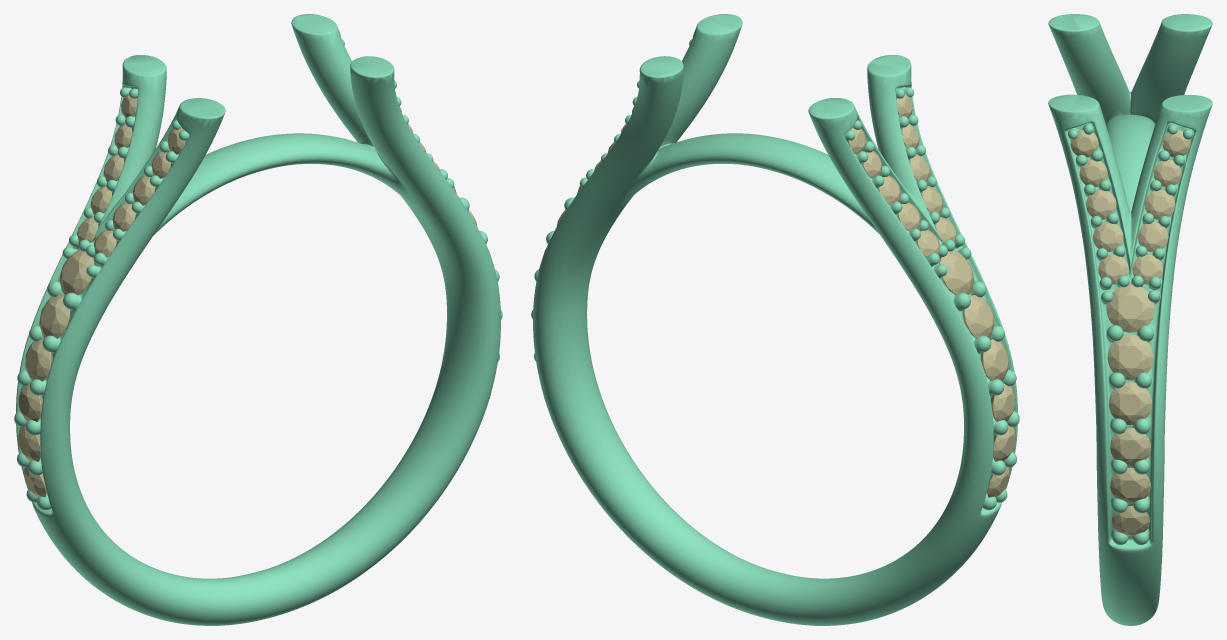
The picture shows the model from 3 angles, left to right: view 1: azimuth 30°, elevation 25°; view 2: azimuth 150°, elevation 25°; view 3: azimuth 270°, elevation 25°; orthographic projection. The views are drawn at different scales.
Visible parts, largest first — view 1: Metal02, Diamond_Gem.010, Diamond_Gem.013, Diamond_Gem.012, Diamond_Gem.014; view 2: Metal02, Diamond_Gem.010, Diamond_Gem.013, Diamond_Gem.012, Diamond_Gem.014; view 3: Metal02, Diamond_Gem.021, Diamond_Gem.018, Diamond_Gem.019, Diamond_Gem.017, Diamond_Gem.016, Diamond_Gem.020, Diamond_Gem.028, Diamond_Gem.023, Diamond_Gem.024, Diamond_Gem.027, Diamond_Gem.029 (+5 smaller).
Boxes of the visible parts, box(x1,y1,x2,y2) form: Metal02: box(14, 14, 502, 625); Diamond_Gem.010: box(59, 250, 94, 294); Diamond_Gem.013: box(39, 295, 70, 338); Diamond_Gem.012: box(25, 339, 52, 381); Diamond_Gem.014: box(18, 383, 42, 421); Metal02: box(531, 14, 1019, 625); Diamond_Gem.010: box(939, 250, 974, 294); Diamond_Gem.013: box(963, 295, 994, 338); Diamond_Gem.012: box(980, 339, 1008, 381); Diamond_Gem.014: box(991, 383, 1015, 421); Metal02: box(1048, 14, 1212, 625); Diamond_Gem.021: box(1106, 284, 1154, 332); Diamond_Gem.018: box(1107, 334, 1153, 380); Diamond_Gem.019: box(1109, 382, 1152, 424); Diamond_Gem.017: box(1110, 427, 1150, 466); Diamond_Gem.016: box(1110, 467, 1150, 503); Diamond_Gem.020: box(1111, 506, 1149, 536); Diamond_Gem.028: box(1137, 222, 1168, 252); Diamond_Gem.023: box(1093, 222, 1123, 252); Diamond_Gem.024: box(1086, 189, 1116, 219); Diamond_Gem.027: box(1144, 189, 1175, 219); Diamond_Gem.029: box(1132, 254, 1162, 284).
Bounding box in the file's own units: 21.04 × 23.34 × 6.46.
